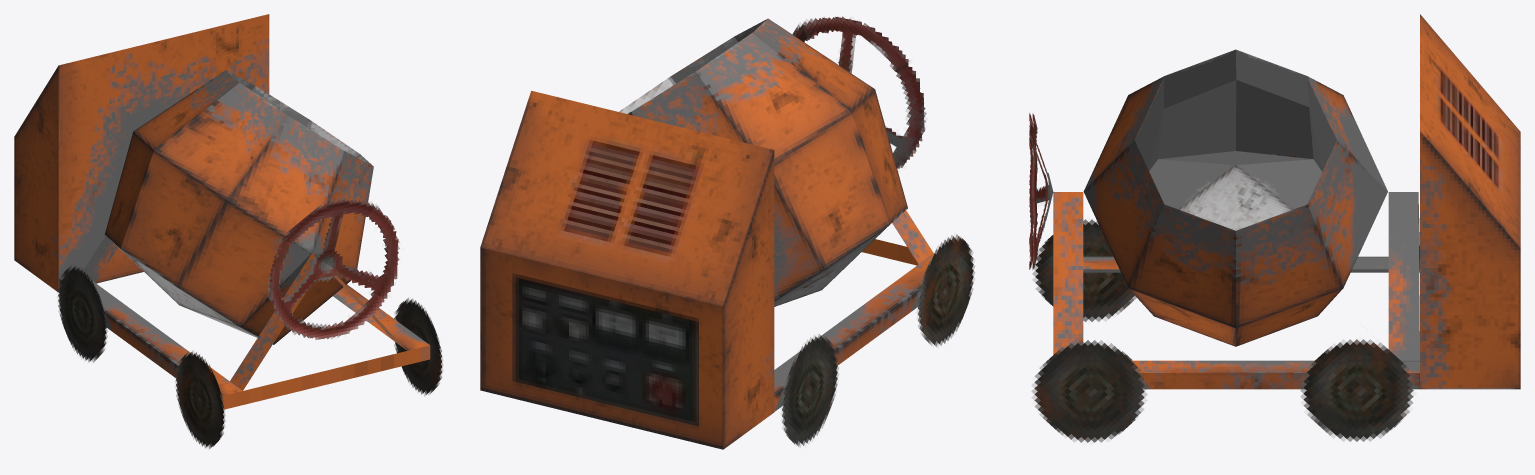
The model's file is ps1_retro_concrete_mixer_ps1.glb.
3 renders of one model, left to right at view 1: azimuth 30°, elevation 25°; view 2: azimuth 150°, elevation 25°; view 3: azimuth 270°, elevation 25°, orthographic. The views are drawn at different scales.
Parts seen in each view (by area): view 1: Object_2; view 2: Object_2; view 3: Object_2.
Boxes of the visible parts, box(x1,y1,x2,y2) form: Object_2: box(14, 14, 443, 448); Object_2: box(480, 16, 974, 449); Object_2: box(1029, 14, 1520, 442).
Size of the model in its own units: 1.05 by 1.28 by 1.69.
1 material, 1 textured.
